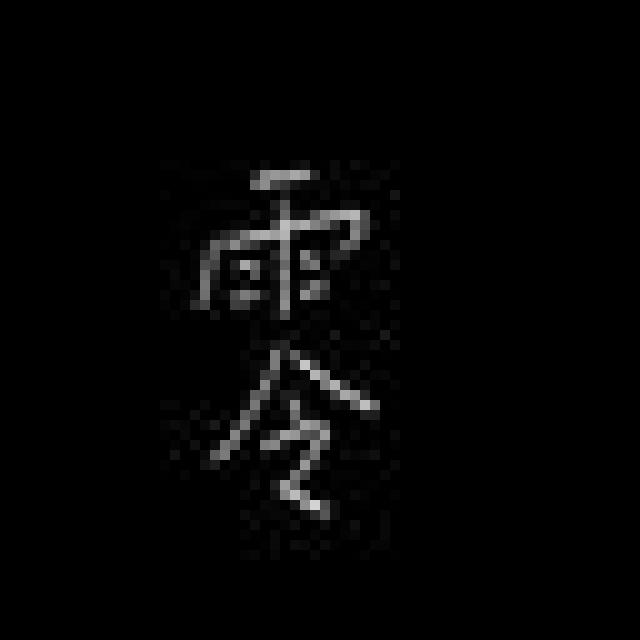0 -zero-: (180, 159, 390, 527)
